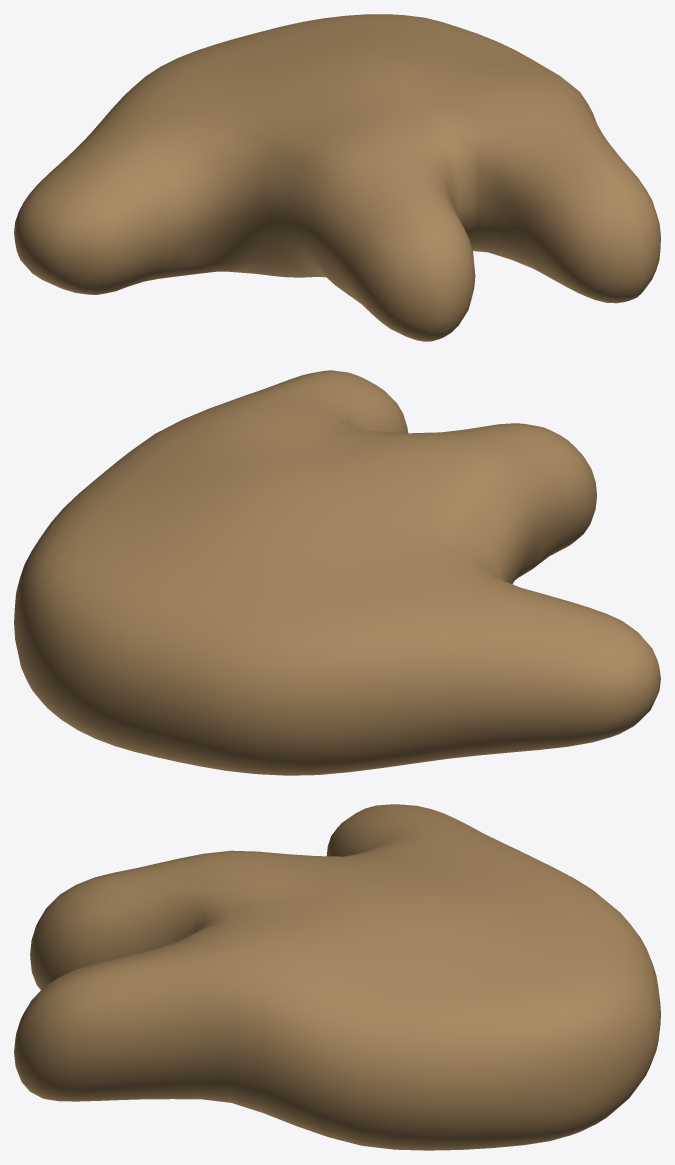
Rendered from left-hand.fbx.
The picture shows the model from 3 angles, top to bottom: view 1: azimuth 30°, elevation 25°; view 2: azimuth 150°, elevation 25°; view 3: azimuth 270°, elevation 25°; orthographic projection. The views are drawn at different scales.
Parts seen in each view (by area): view 1: Left Hand; view 2: Left Hand; view 3: Left Hand.
Part boxes in pixels (x1=…): Left Hand: x1=14, y1=14, x2=660, y2=341; Left Hand: x1=14, y1=370, x2=660, y2=775; Left Hand: x1=14, y1=804, x2=660, y2=1150.
Size of the model in its own units: 15.99 by 5.25 by 15.84.
